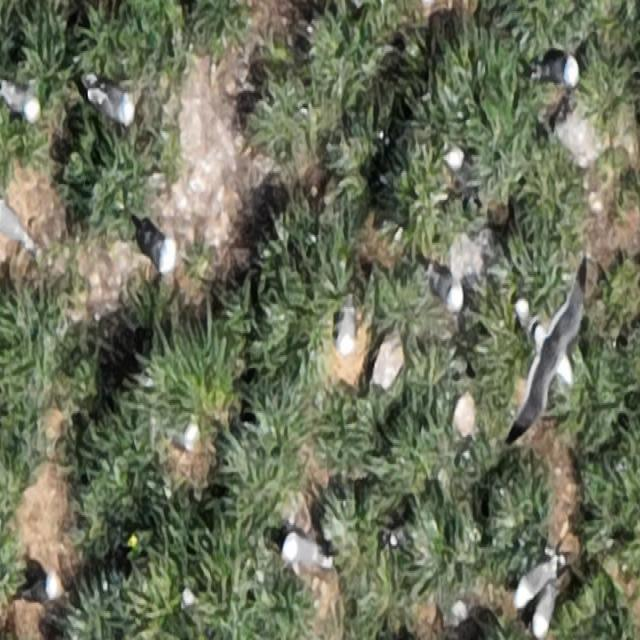F: (525, 278, 586, 411)
umineko: (516, 554, 559, 612), (137, 219, 176, 277), (533, 49, 578, 86), (94, 87, 134, 125), (532, 586, 562, 636), (444, 146, 481, 182), (284, 538, 328, 568), (336, 295, 357, 353), (431, 272, 462, 310), (3, 86, 39, 118), (23, 578, 60, 600), (515, 300, 533, 336)
